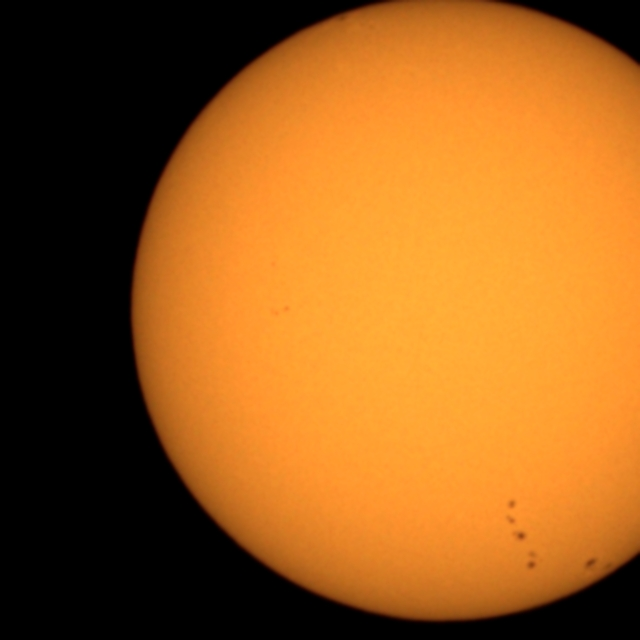sunspot: (504, 498, 530, 546), (268, 302, 293, 320), (524, 548, 540, 573), (582, 556, 602, 574)
